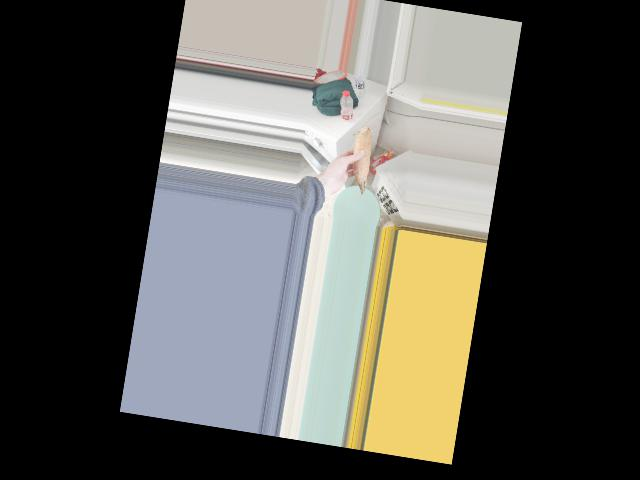sweet_potato: (343, 121, 380, 194)
